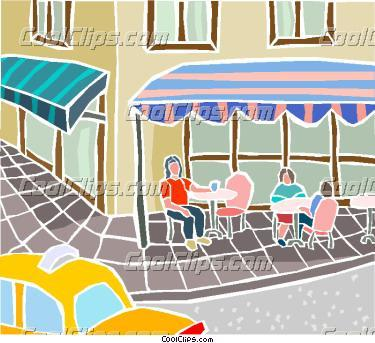car: (1, 242, 209, 334)
chair: (216, 169, 253, 234), (301, 197, 341, 245)
diningtable: (186, 185, 237, 238), (268, 197, 315, 246), (347, 190, 375, 240)
person: (156, 154, 213, 250), (268, 166, 309, 244)
